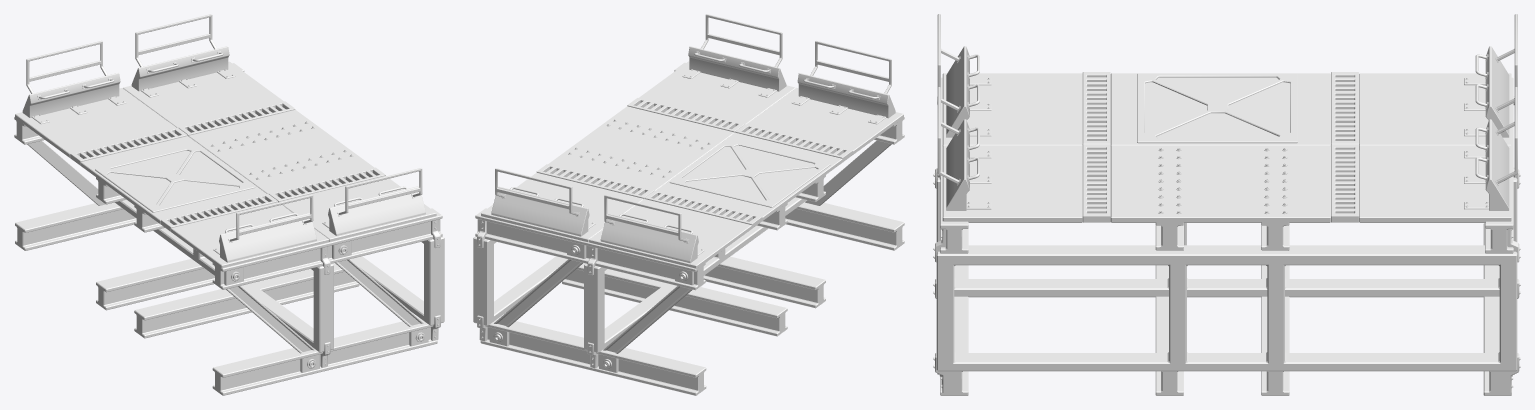
Rendered from KB3D_FTW_PropBridgeSegment_A_grp.glb.
3 views of the same model, side by side, from view 1: azimuth 30°, elevation 25°; view 2: azimuth 150°, elevation 25°; view 3: azimuth 270°, elevation 25° (orthographic). The views are drawn at different scales.
Parts seen in each view (by area): view 1: KB3D_FTW_PropBridgeSegment_A_Main; view 2: KB3D_FTW_PropBridgeSegment_A_Main; view 3: KB3D_FTW_PropBridgeSegment_A_Main.
Boxes of the visible parts, left/top/right/bottom form: KB3D_FTW_PropBridgeSegment_A_Main: left=14, top=14, right=444, bottom=395; KB3D_FTW_PropBridgeSegment_A_Main: left=473, top=14, right=904, bottom=395; KB3D_FTW_PropBridgeSegment_A_Main: left=933, top=14, right=1520, bottom=395.
Bounding box in the file's own units: 3.53 × 2.75 × 5.91.
7 materials, 1 textured.
